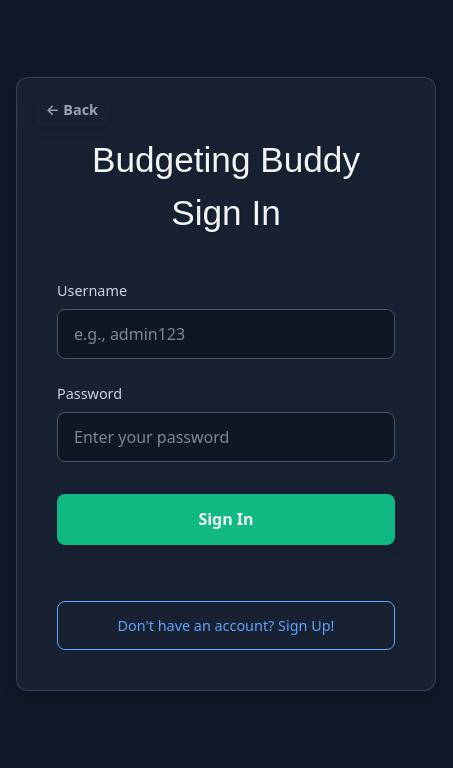
Test: SignIn Component › shows an error message and does not navigate on failed login
Type "admin123" into the field labelled "Username". click: (226, 334)
box: left=57, top=309, right=395, bottom=359
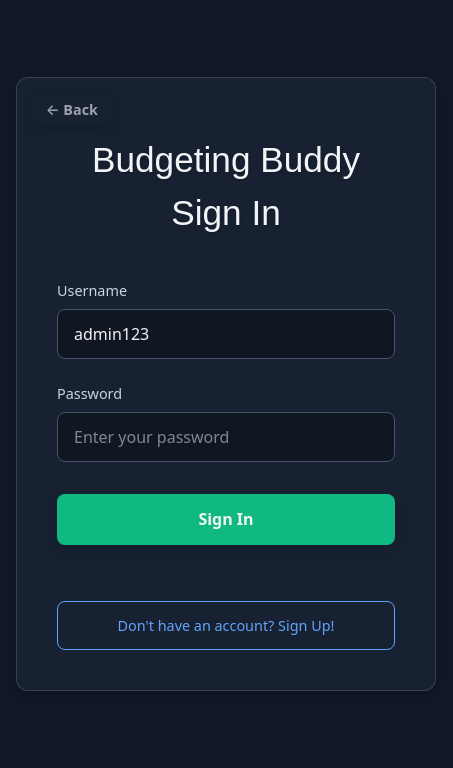
Type "wrongpassword" into the password field labelled "Password". click: (226, 437)
box: left=57, top=412, right=395, bottom=462
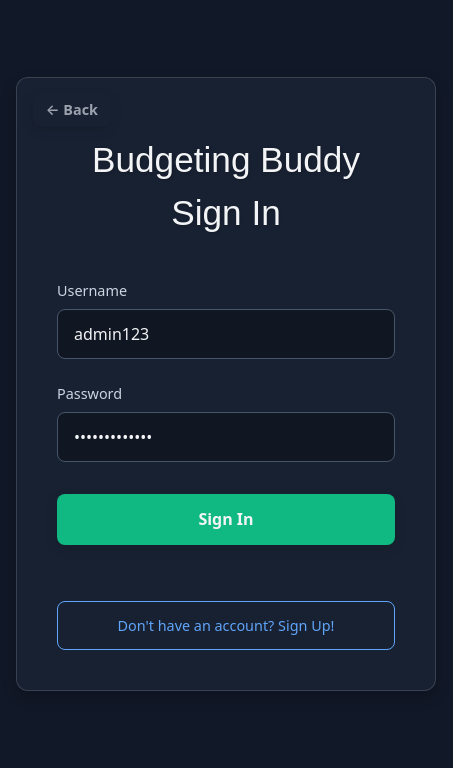
Click the button "Sign In". click: (226, 519)
box: left=57, top=494, right=395, bottom=545
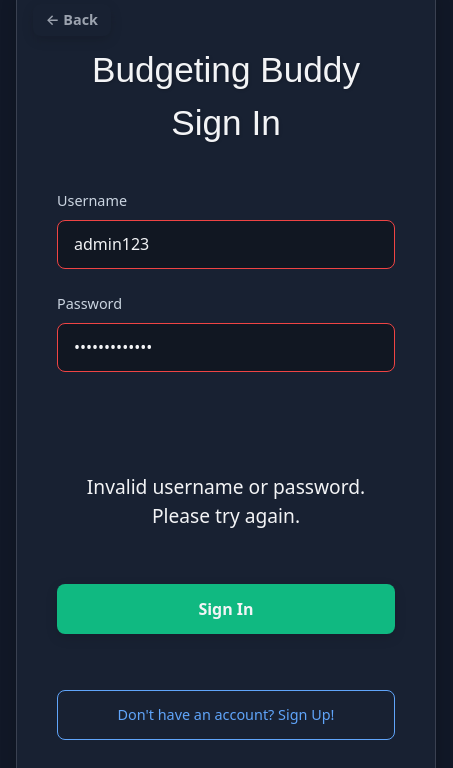
Check: the message "Invalid username or password. Please try again." is shown, box left=87, top=473, right=365, bottom=529
